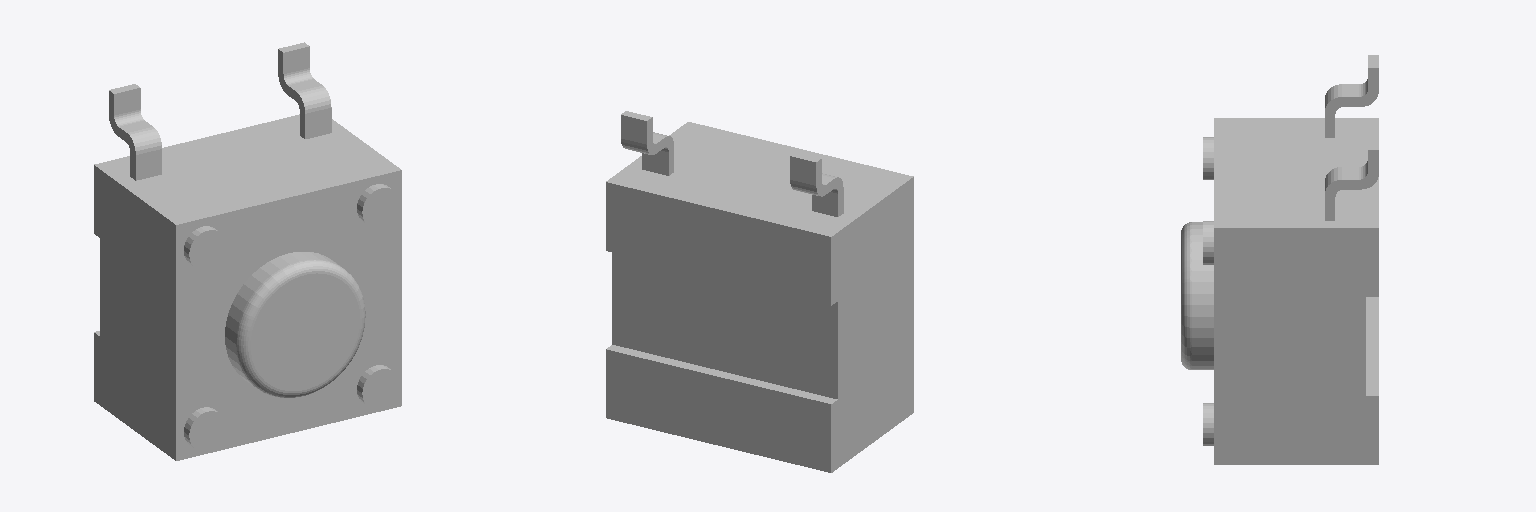
The model's file is FSM2JSMAATR-PushButton.obj.
The picture shows the model from 3 angles: view 1: azimuth 30°, elevation 25°; view 2: azimuth 150°, elevation 25°; view 3: azimuth 270°, elevation 25°; orthographic projection.
Parts seen in each view (by area): view 1: Body, Part__Mirroring; view 2: Body, Part__Mirroring; view 3: Body, Part__Mirroring.
Boxes of the visible parts, x1,y1,x2,y2 form: Body: [94, 114, 401, 460]; Part__Mirroring: [109, 42, 331, 180]; Body: [606, 122, 913, 472]; Part__Mirroring: [621, 111, 843, 216]; Body: [1181, 118, 1378, 464]; Part__Mirroring: [1325, 55, 1378, 220].
Bounding box in the file's own units: 6 × 7.8 × 4.55.